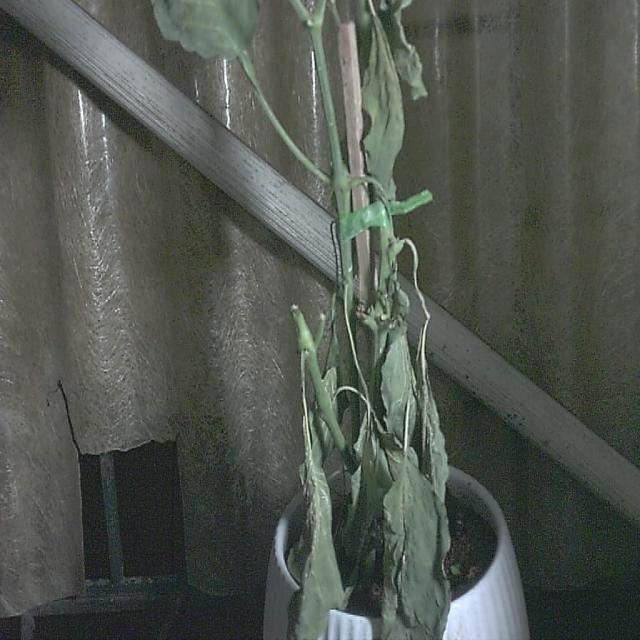Leaf: (379, 463, 454, 640)
